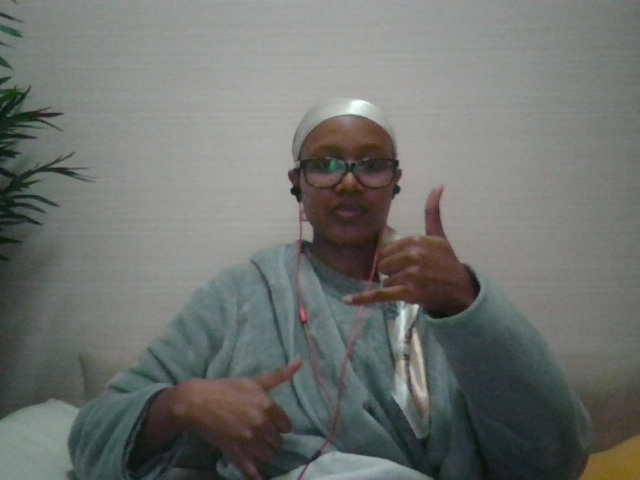callme: (338, 181, 488, 323)
